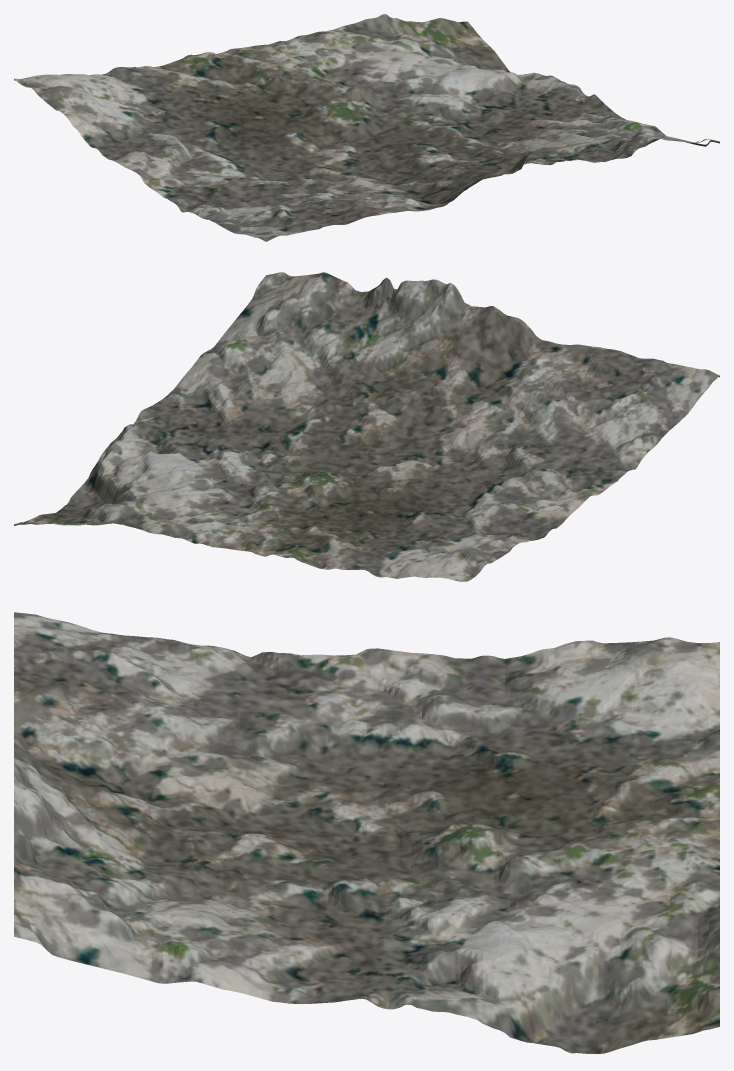
3 renders of one model, top to bottom at view 1: azimuth 30°, elevation 25°; view 2: azimuth 150°, elevation 25°; view 3: azimuth 270°, elevation 25°, orthographic. The views are drawn at different scales.
Size of the model in its own units: 250 by 64.85 by 241.
1 material, 1 textured.
